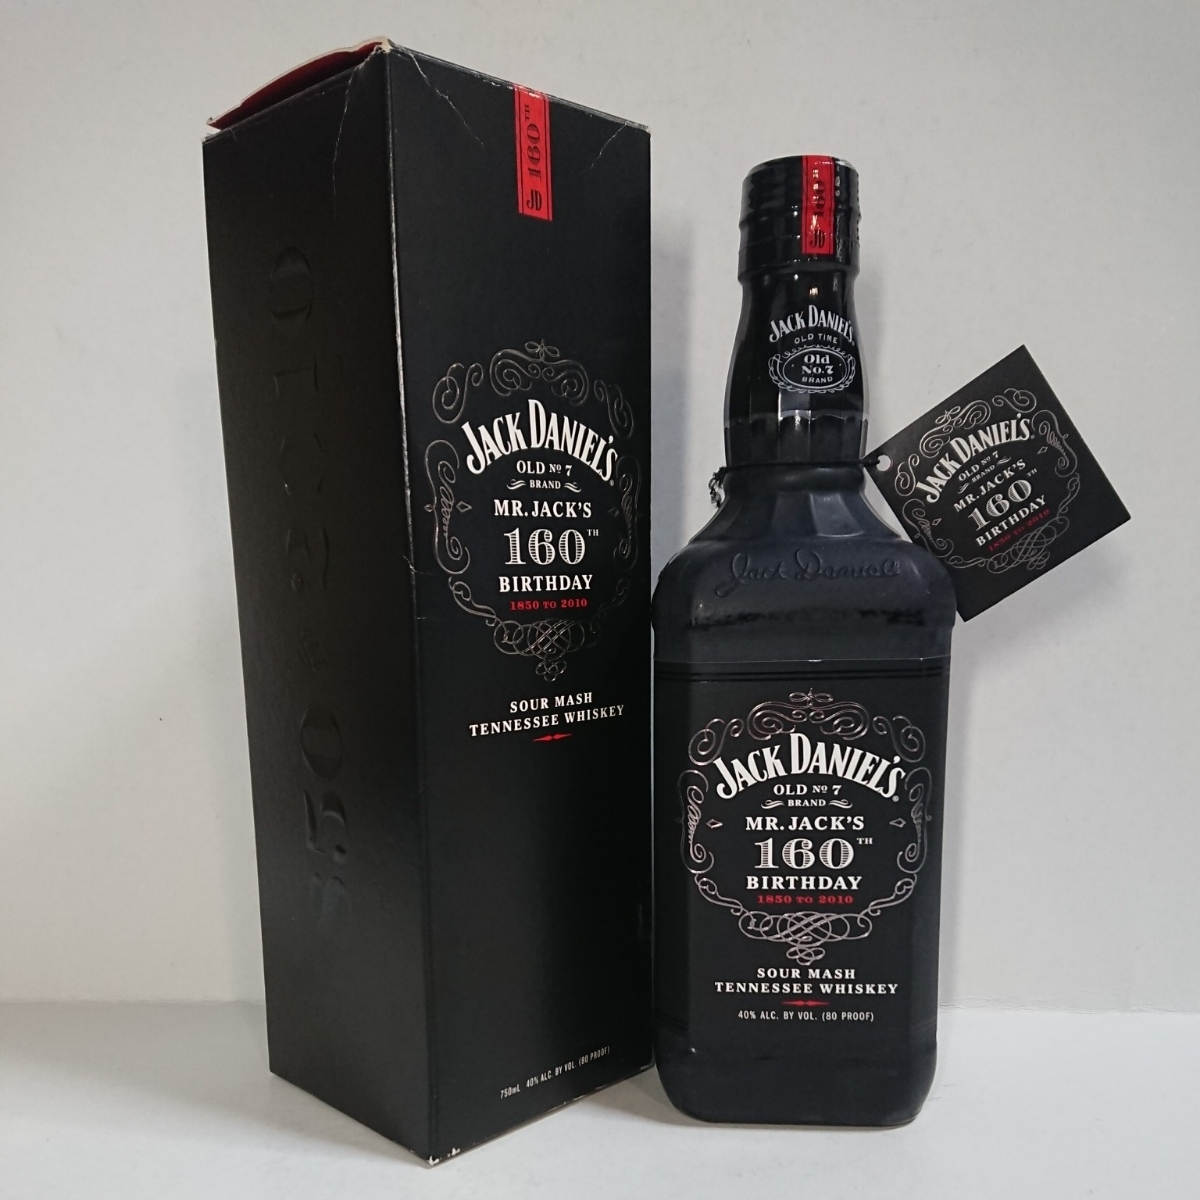Jack Daniel: (634, 141, 978, 1142)
